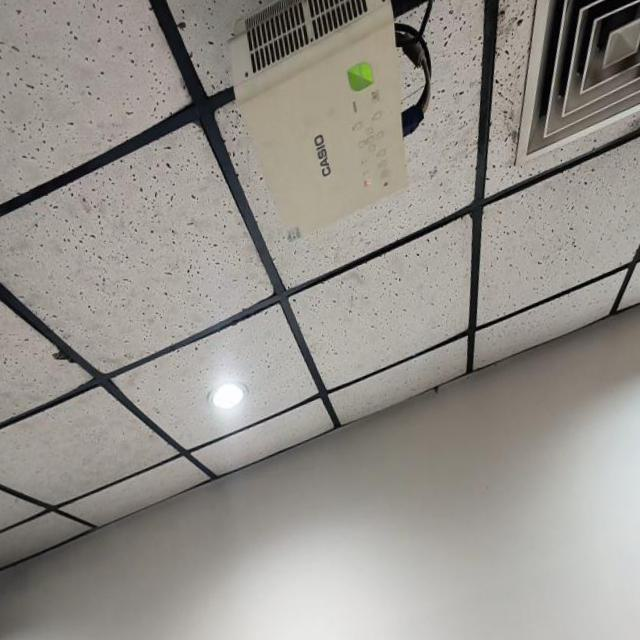Light: (217, 371, 246, 393)
Projector: (256, 0, 411, 244)
